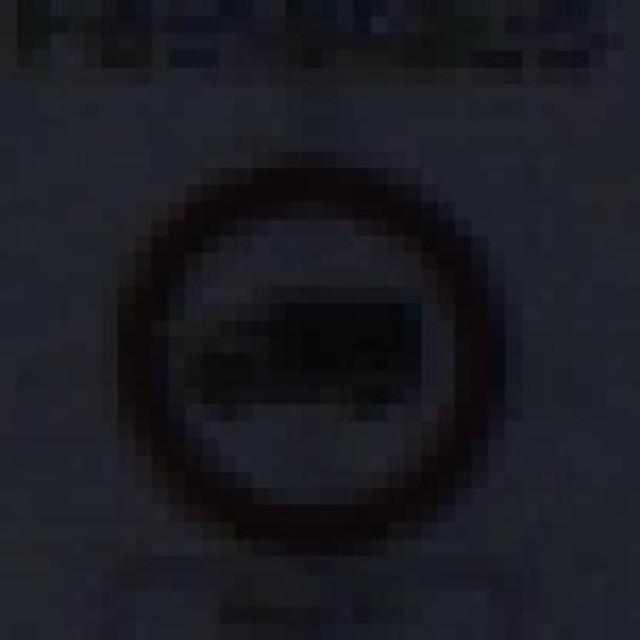Truck traffic is prohibited: (44, 126, 567, 565)
